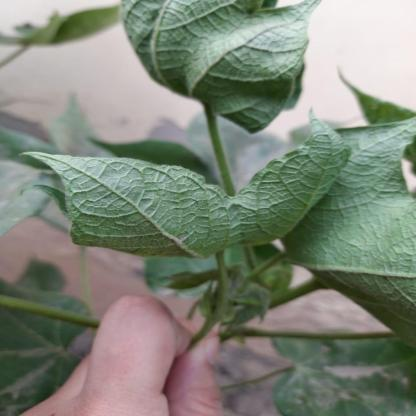curl_stage2: (49, 156, 236, 251), (140, 1, 294, 82), (235, 187, 391, 254), (207, 82, 293, 122), (303, 147, 402, 181), (357, 256, 414, 301), (317, 126, 345, 147)
